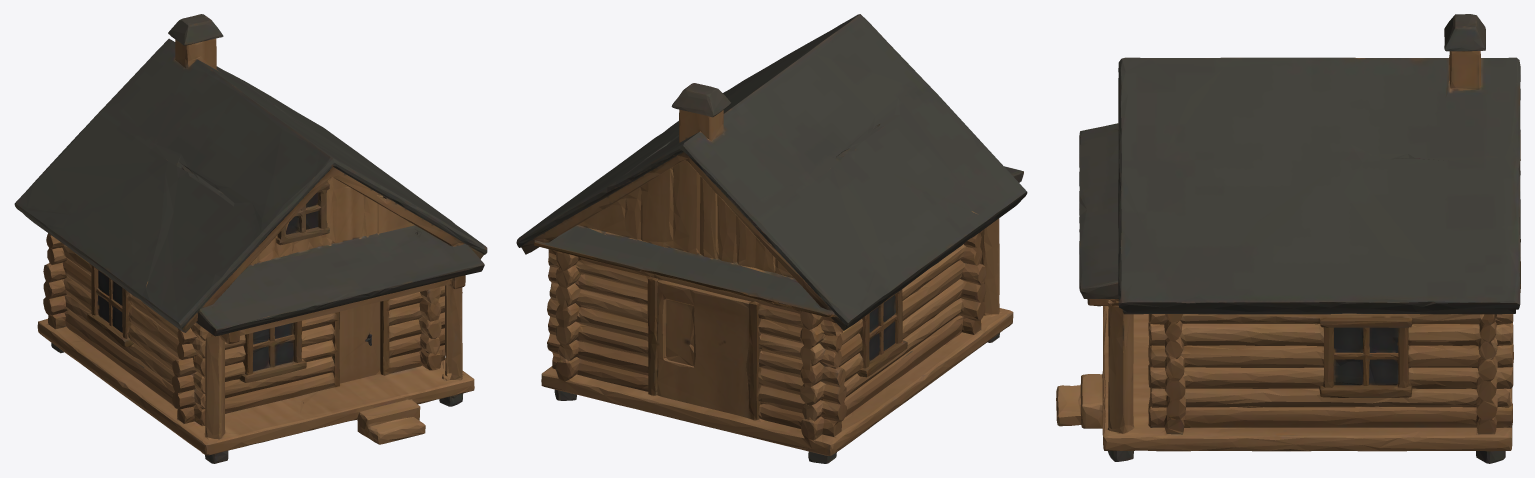
The model's file is Cabın.glb.
The picture shows the model from 3 angles, left to right: view 1: azimuth 30°, elevation 25°; view 2: azimuth 150°, elevation 25°; view 3: azimuth 270°, elevation 25°; orthographic projection. The views are drawn at different scales.
Size of the model in its own units: 0.9292 by 0.8804 by 1.
Materials: 1 (1 with a texture image).
